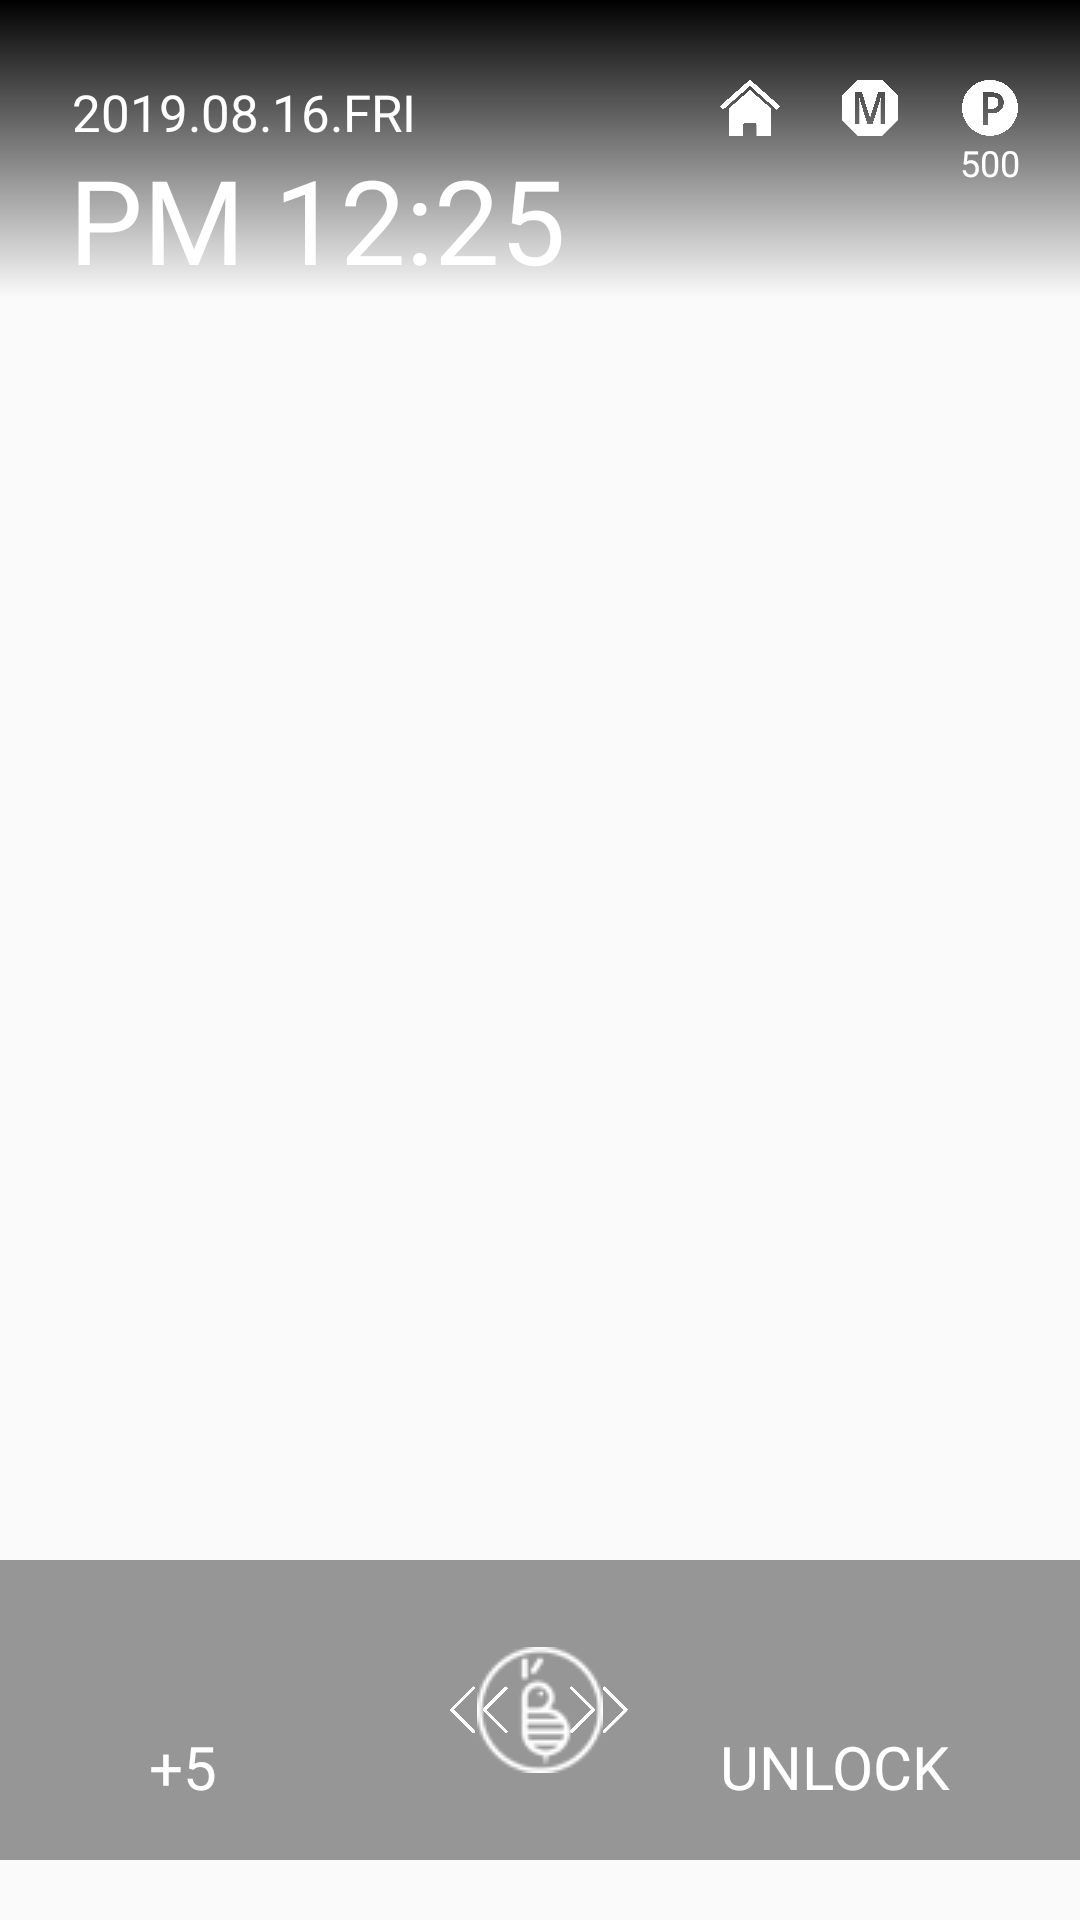

Where to tap for icons on this 1080*1920 app screen, as [x,y]:
home: [750,108]
left arrow: [479,1710]
mission: [870,108]
point: [990,108]
right arrow: [599,1710]
